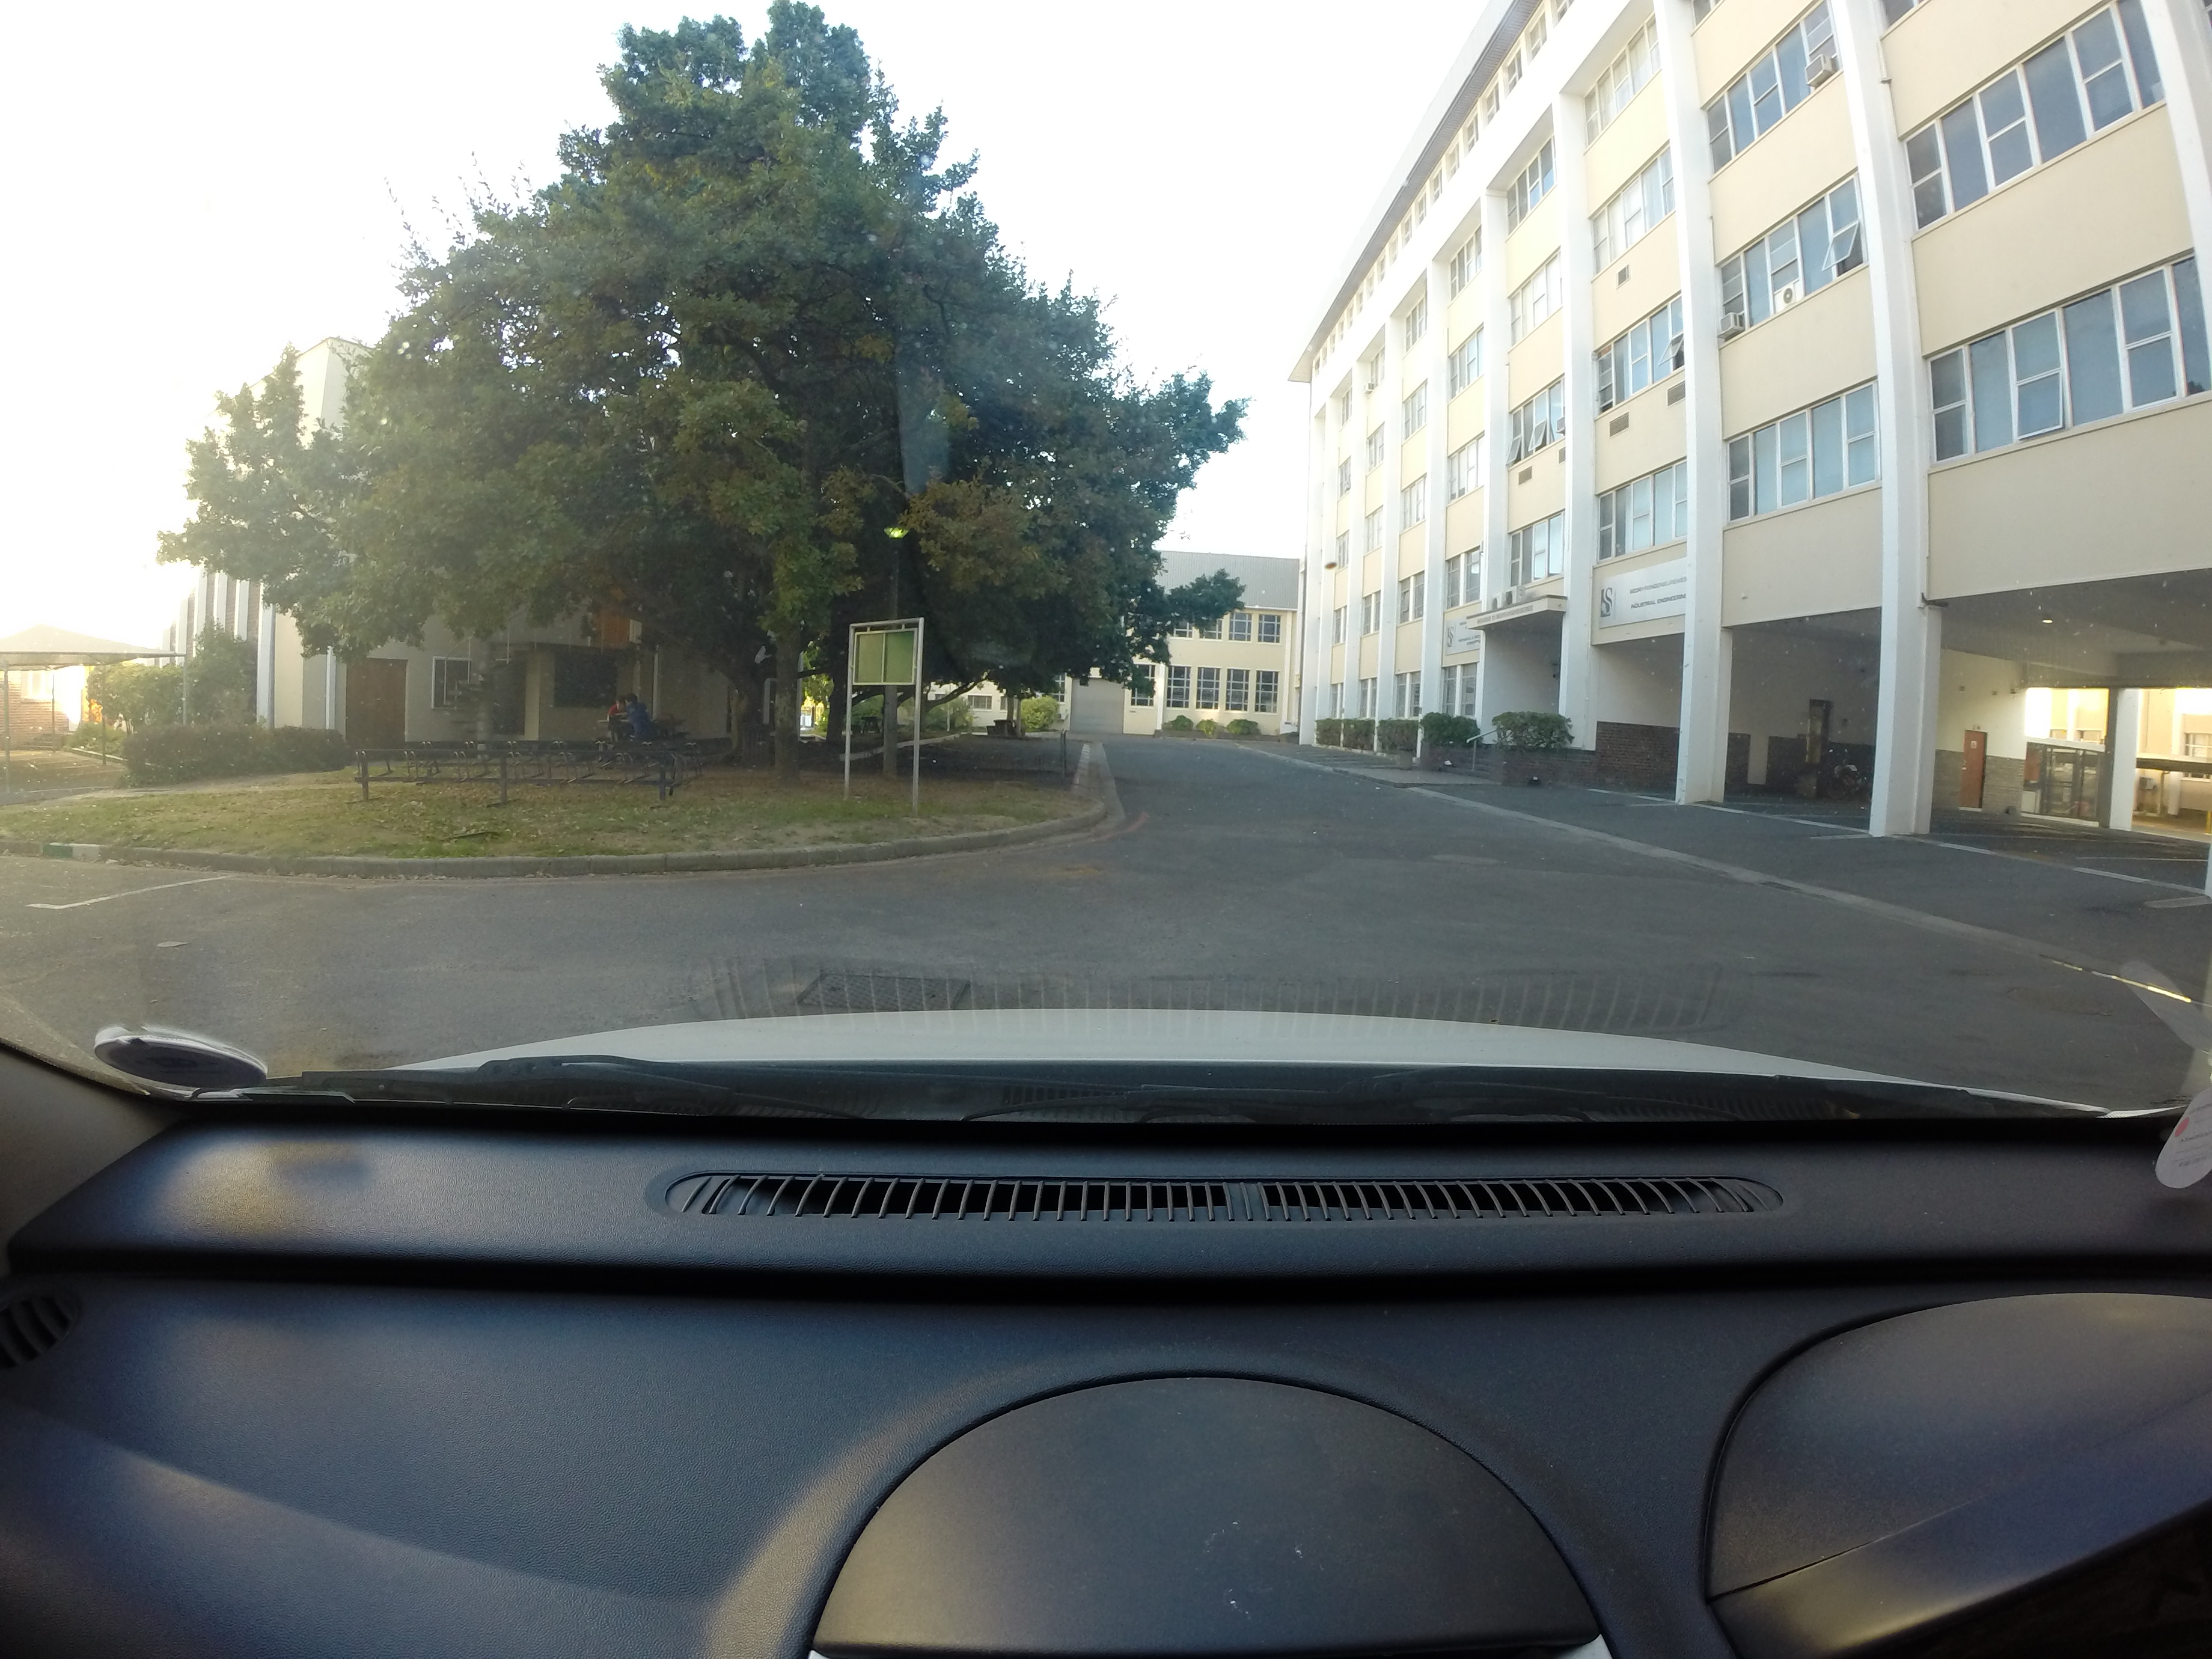pothole: (322, 1049, 427, 1061), (1045, 857, 1108, 877)
